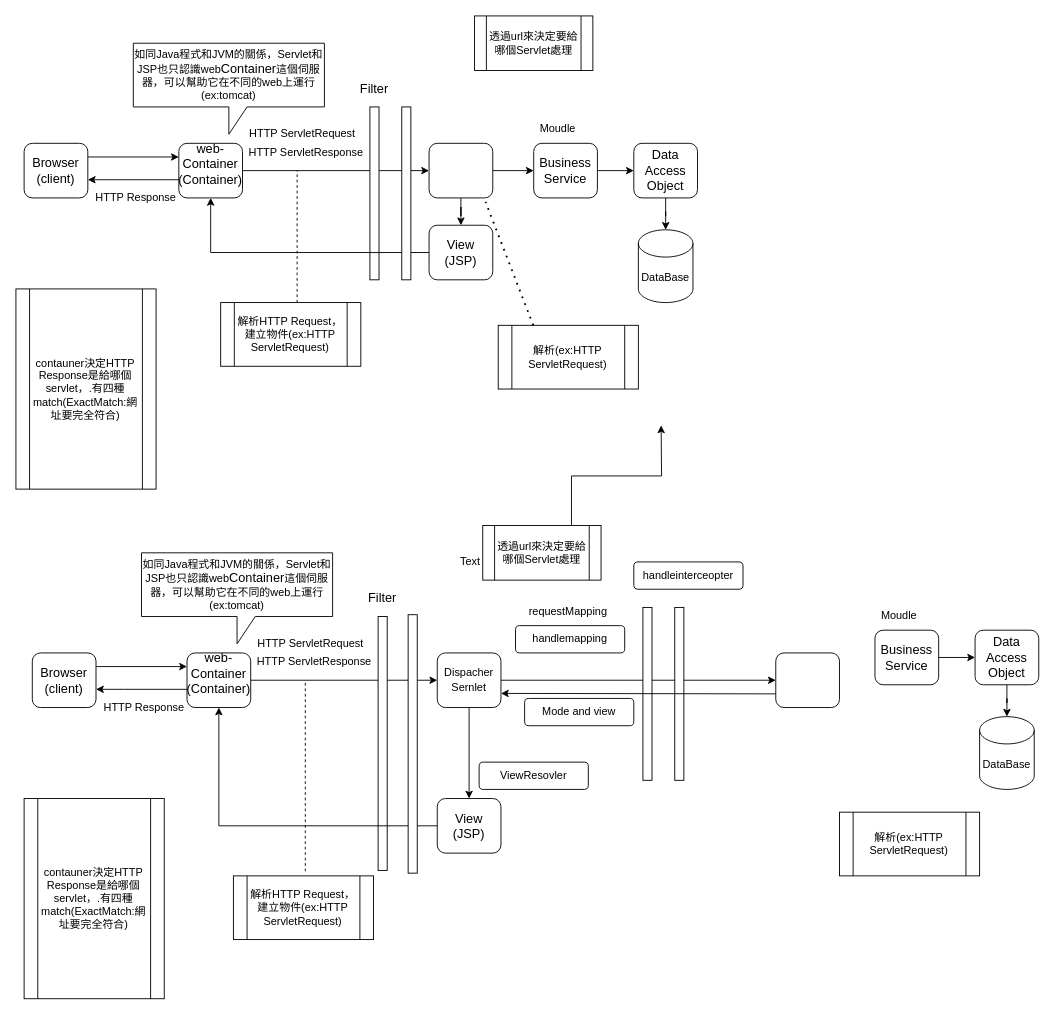
Image size: 1055x1015. Some labels were removed from this diagram. The centre of each missing label's shape, as x and y in pixels:
"controller" belongs at point 807,680.
"Controller (Servlet)" belongs at point 460,170.
